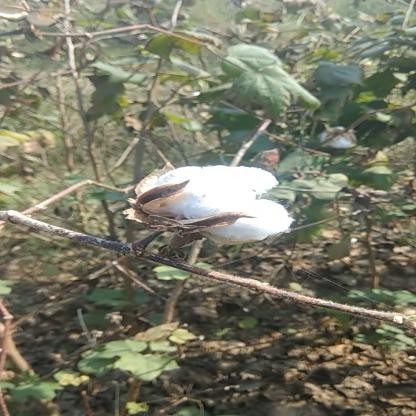cotton_ready: (110, 153, 300, 286)
